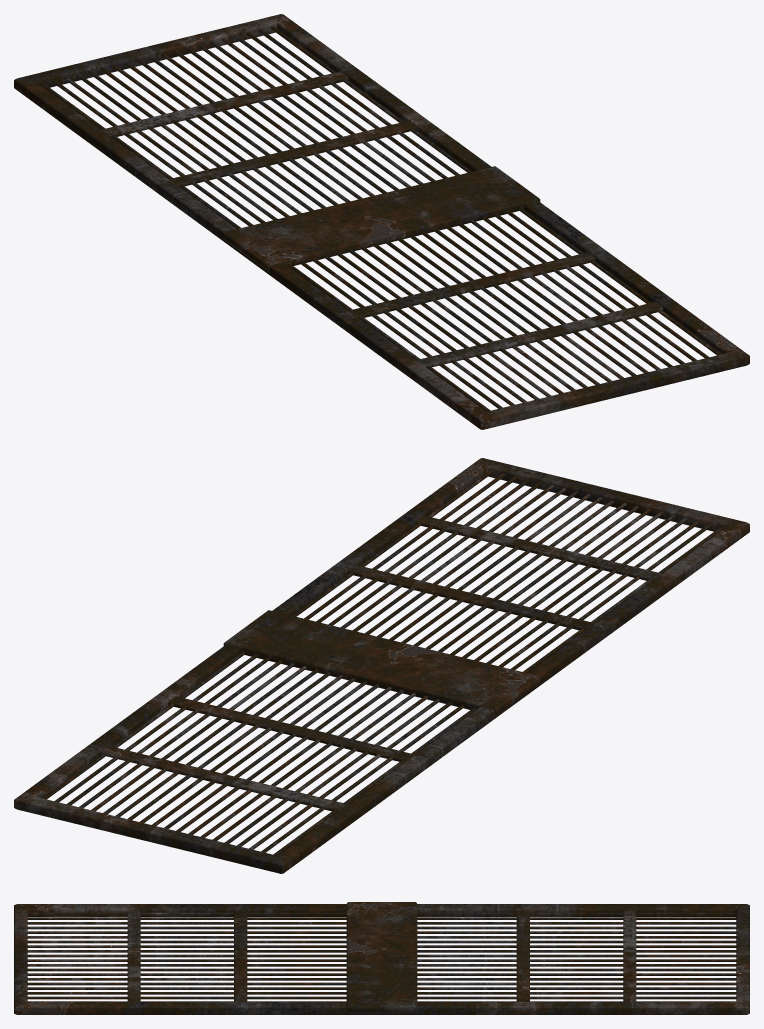
File: Basement_Corridor_A_Floor_Vent_Grill_4m.glb
3 renders of one model, top to bottom at view 1: azimuth 30°, elevation 25°; view 2: azimuth 150°, elevation 25°; view 3: azimuth 270°, elevation 25°, orthographic. The views are drawn at different scales.
Visible parts, largest first — view 1: Basement_Corridor_A_Floor_Vent_Grill_4m; view 2: Basement_Corridor_A_Floor_Vent_Grill_4m; view 3: Basement_Corridor_A_Floor_Vent_Grill_4m.
Part boxes in pixels (x1=…): Basement_Corridor_A_Floor_Vent_Grill_4m: x1=14, y1=14, x2=749, y2=429; Basement_Corridor_A_Floor_Vent_Grill_4m: x1=14, y1=458, x2=749, y2=873; Basement_Corridor_A_Floor_Vent_Grill_4m: x1=14, y1=902, x2=749, y2=1014.
Bounding box in the file's own units: 1.35 × 0.0585 × 4.
1 material, 1 textured.
